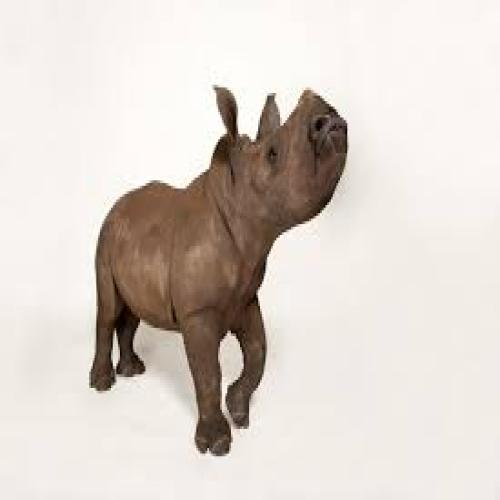rhino-endangered: (87, 83, 350, 458)
